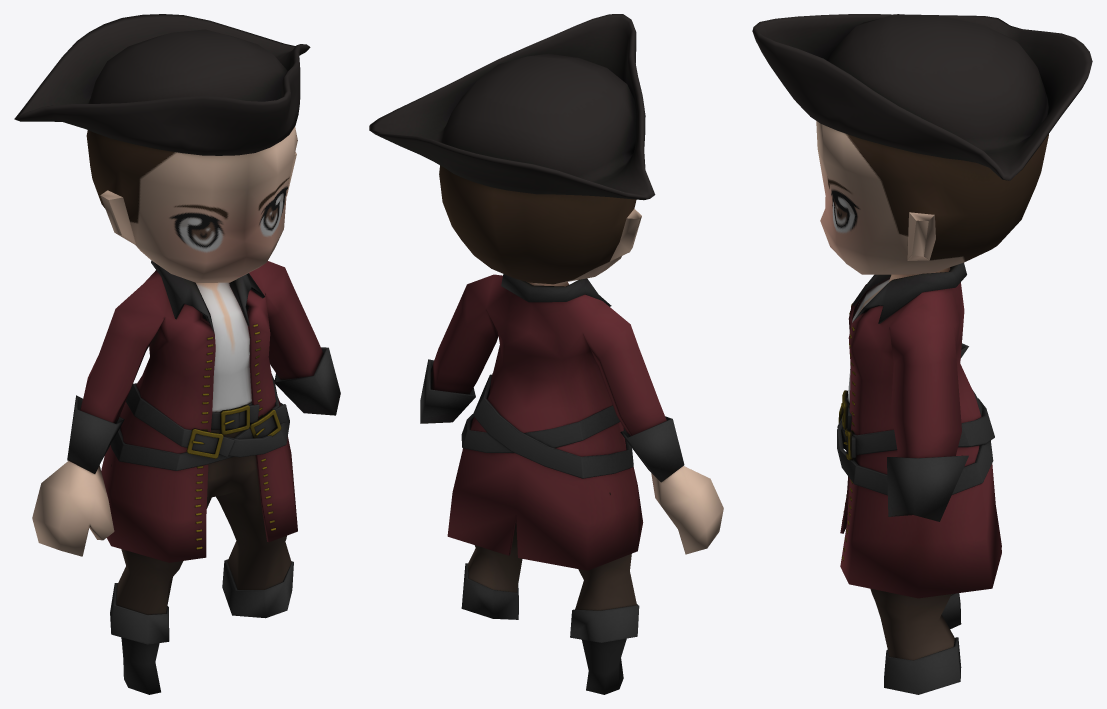
File: Pirate.fbx
3 views of the same model, side by side, from view 1: azimuth 30°, elevation 25°; view 2: azimuth 150°, elevation 25°; view 3: azimuth 270°, elevation 25° (orthographic). The views are drawn at different scales.
Parts seen in each view (by area): view 1: Pirate_Body; view 2: Pirate_Body; view 3: Pirate_Body.
Part boxes in pixels (bbox=[...]): Pirate_Body: bbox=[14, 14, 340, 694]; Pirate_Body: bbox=[369, 14, 723, 694]; Pirate_Body: bbox=[752, 14, 1092, 694].
Bounding box in the file's own units: 96.22 × 183 × 82.75.
